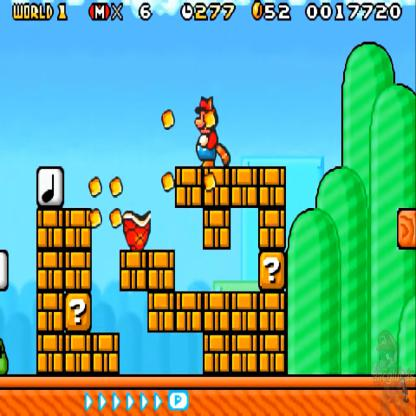Mario: (194, 96, 225, 167)
caparazon: (119, 206, 154, 247)
moneda: (251, 1, 265, 22)
